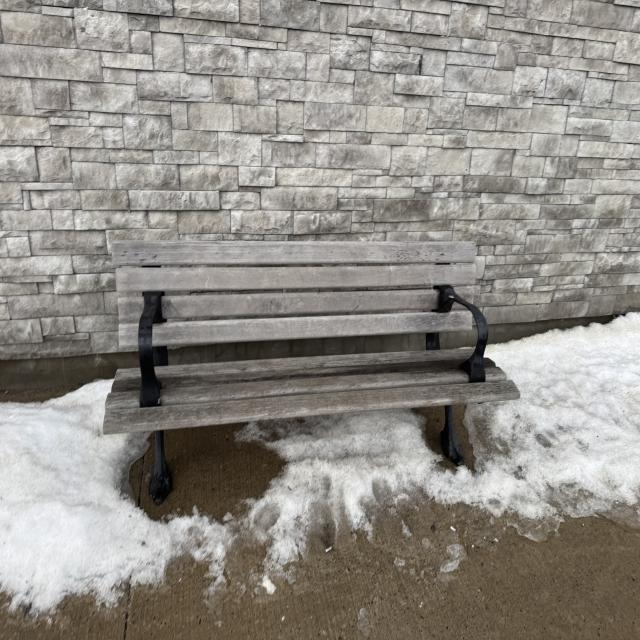Bench: (109, 242, 522, 496)
